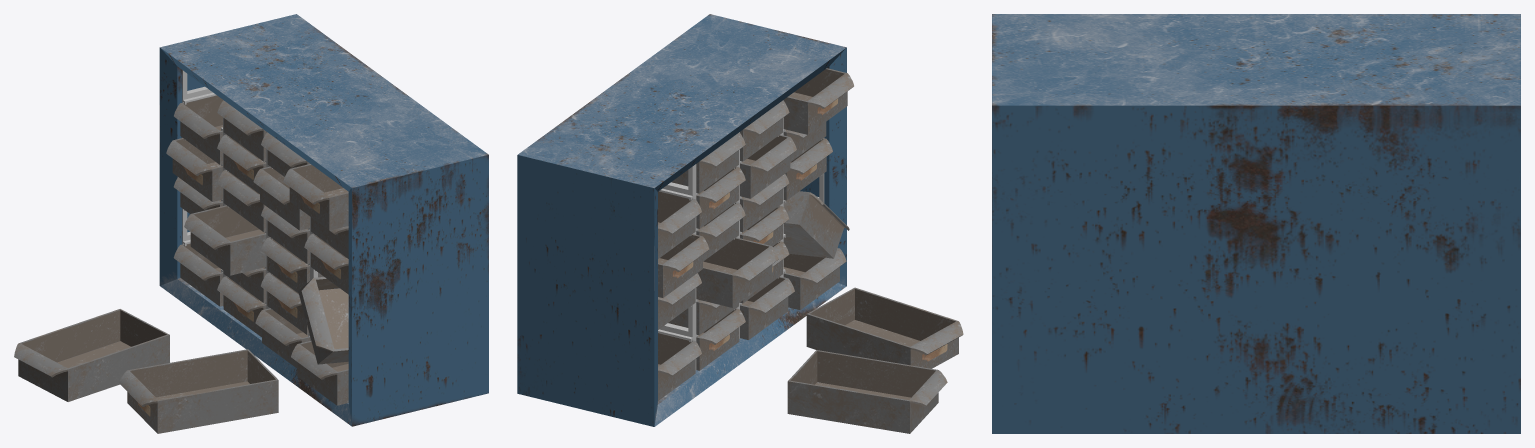
The model's file is item_organizer.glb.
The picture shows the model from 3 angles, left to right: view 1: azimuth 30°, elevation 25°; view 2: azimuth 150°, elevation 25°; view 3: azimuth 270°, elevation 25°; orthographic projection. The views are drawn at different scales.
Visible parts, largest first — view 1: Drawer027_Material #2_0; view 2: Drawer027_Material #2_0; view 3: Drawer027_Material #2_0.
Boxes of the visible parts, bbox=[...] form: Drawer027_Material #2_0: bbox=[14, 14, 488, 433]; Drawer027_Material #2_0: bbox=[517, 14, 963, 433]; Drawer027_Material #2_0: bbox=[992, 14, 1520, 433].
Bounding box in the file's own units: 1.92 × 1.27 × 1.85.
Materials: 1 (1 with a texture image).
